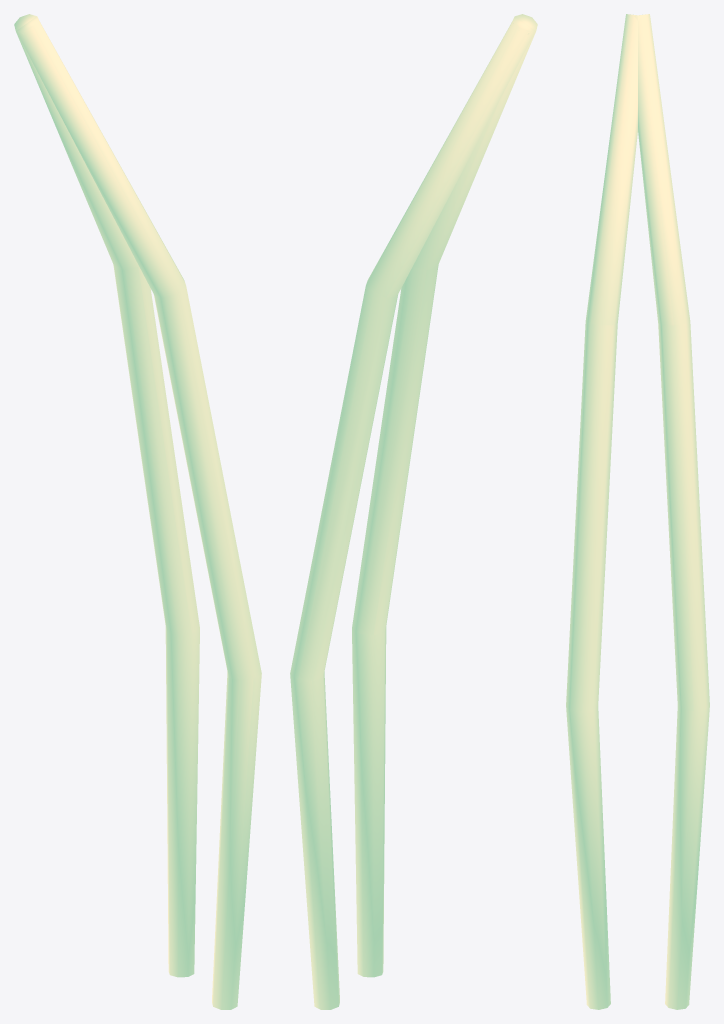
The model's file is SM_RV_ShieldSegmentGlow.fbx.
The picture shows the model from 3 angles, left to right: view 1: azimuth 30°, elevation 25°; view 2: azimuth 150°, elevation 25°; view 3: azimuth 270°, elevation 25°; orthographic projection. The views are drawn at different scales.
Visible parts, largest first — view 1: SM_RV_ShieldSegmentGlow; view 2: SM_RV_ShieldSegmentGlow; view 3: SM_RV_ShieldSegmentGlow.
Boxes of the visible parts, bbox=[...] form: SM_RV_ShieldSegmentGlow: bbox=[14, 14, 261, 1009]; SM_RV_ShieldSegmentGlow: bbox=[290, 14, 537, 1009]; SM_RV_ShieldSegmentGlow: bbox=[566, 14, 709, 1009].
Bounding box in the file's own units: 2.58 × 3.98 × 18.1.
